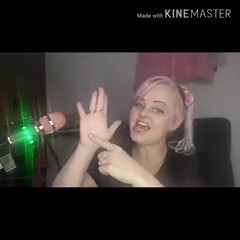J: (72, 86, 141, 184)
